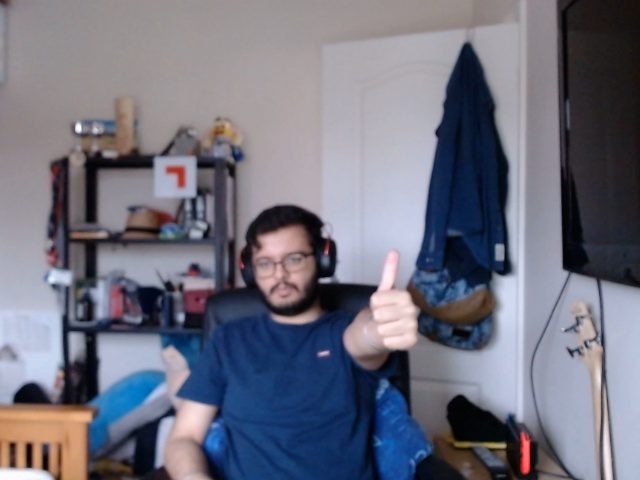Thumbs up: (366, 237, 423, 372)
